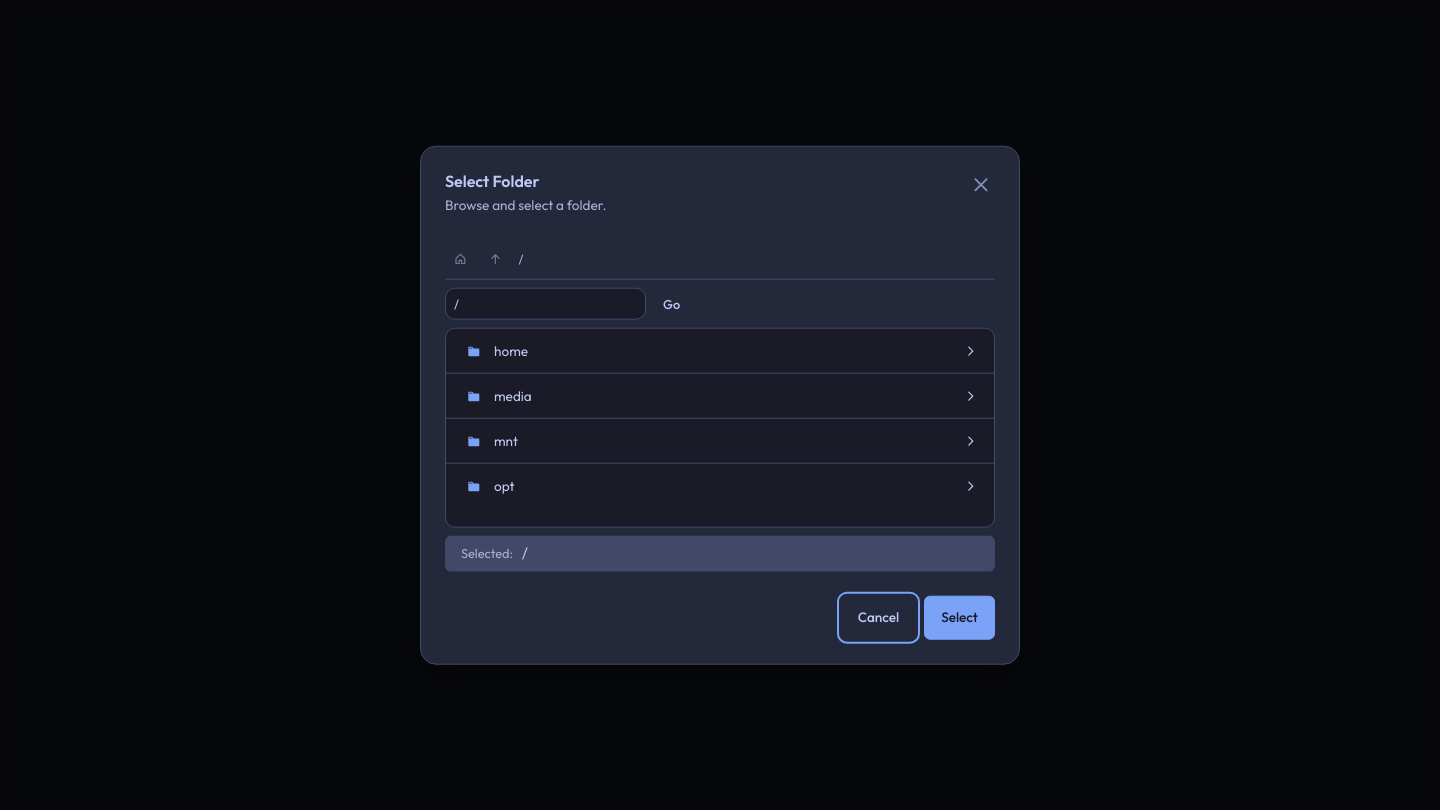
Test: FileBrowser › opens folders with the keyboard in folder mode and exposes selection on buttons
Click the button "home": (511, 351) 446,329 -> 955,373
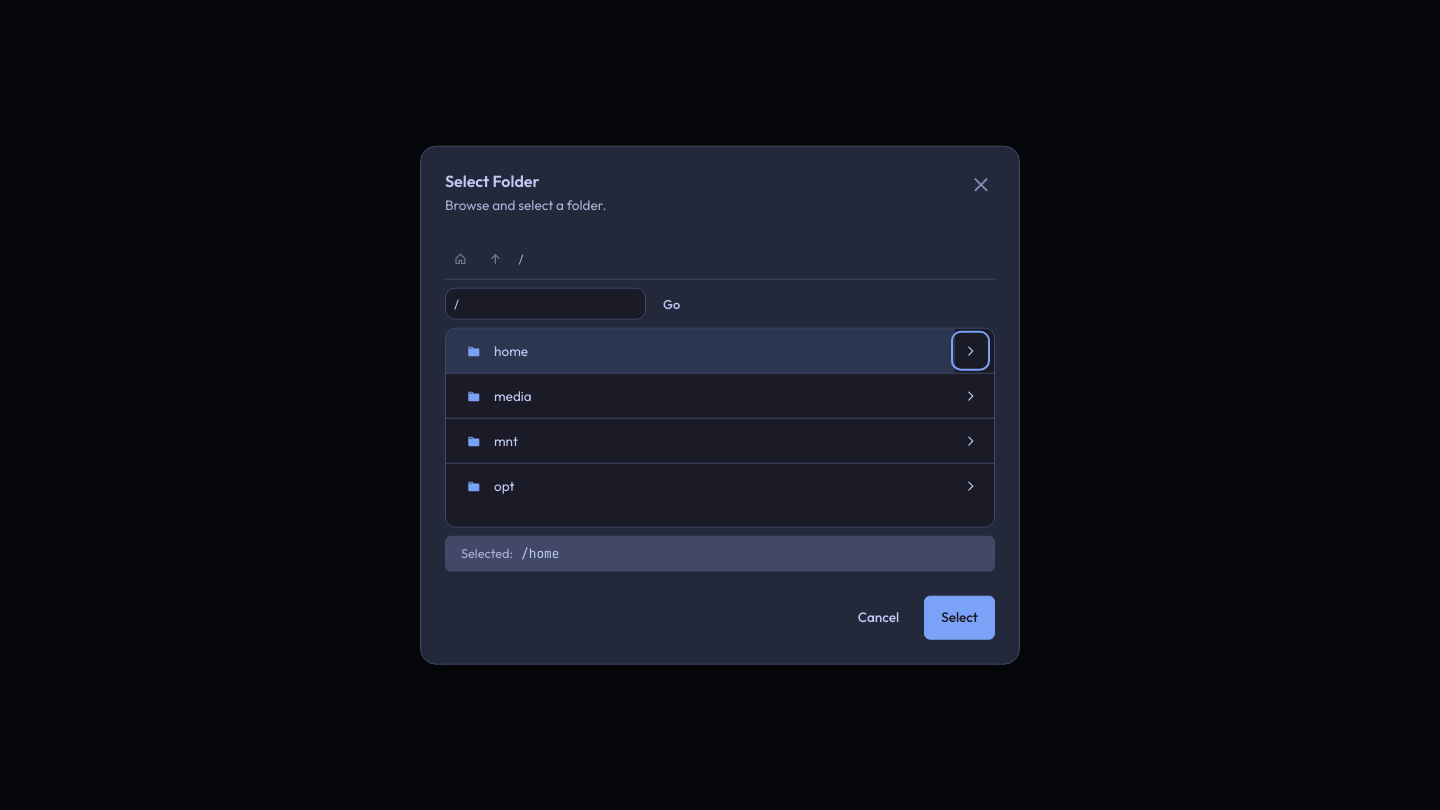
Expected: the button "home" is pressed, 446,329 -> 955,373
Press Enter
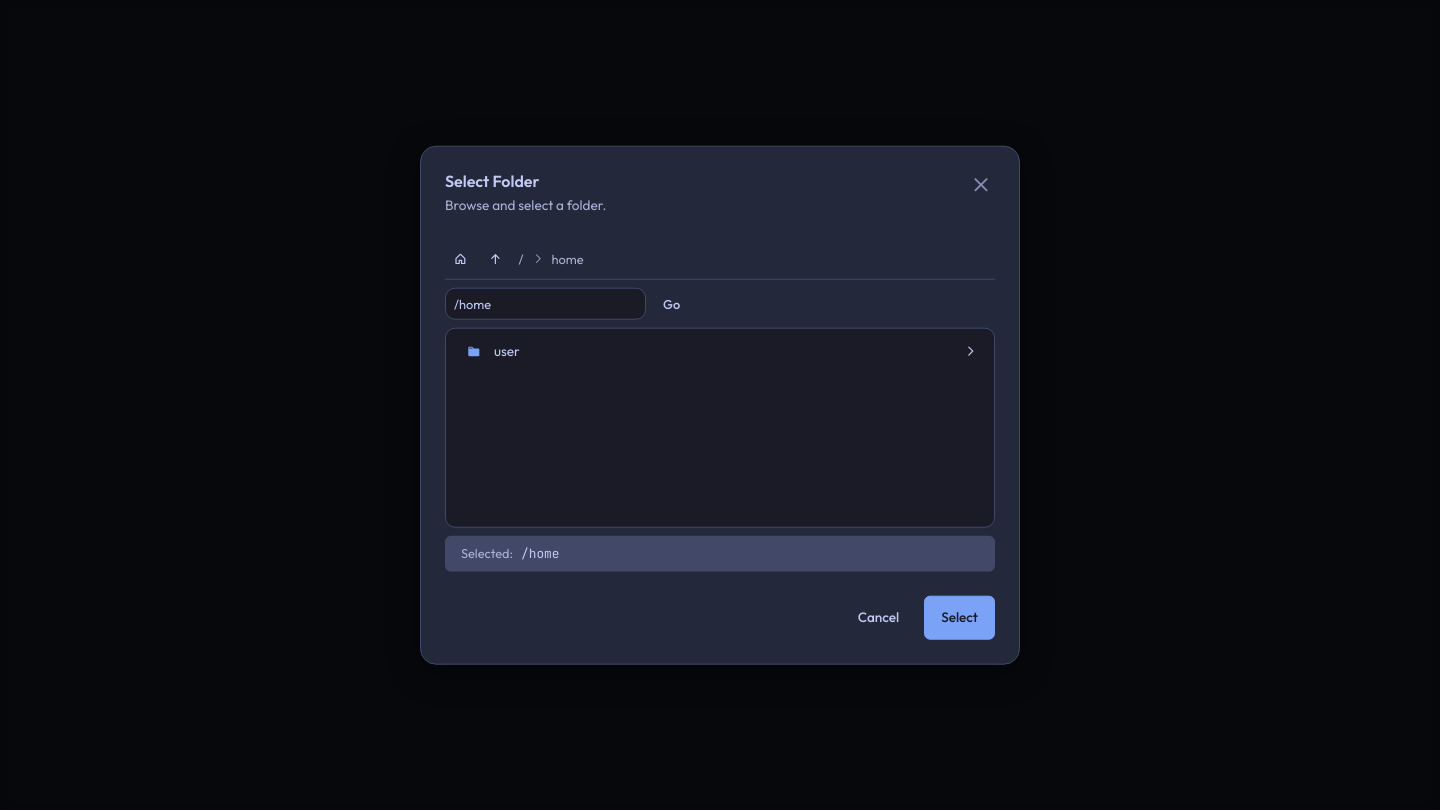
Expected: the list named "Directory contents" is shown, 446,329 -> 994,373
Expected: the button named "Open user" is shown, 955,335 -> 986,367
